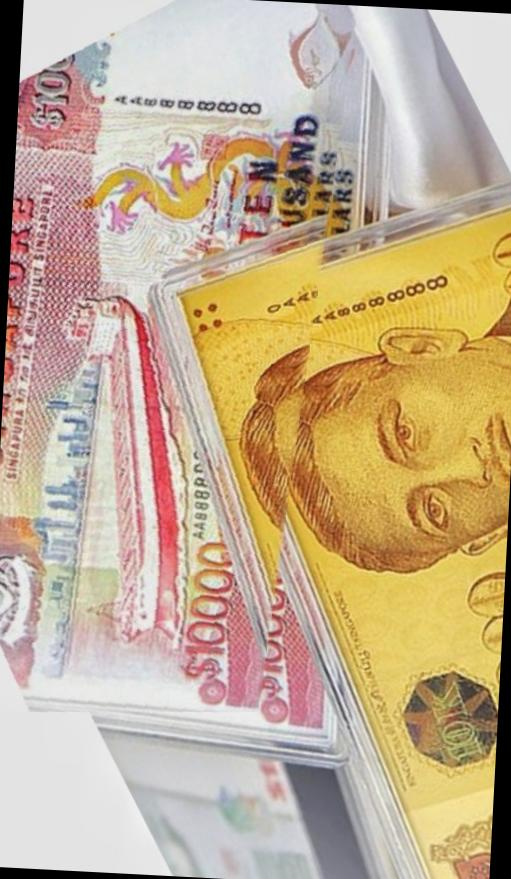10000SingaporeDollar: (0, 0, 359, 731)
